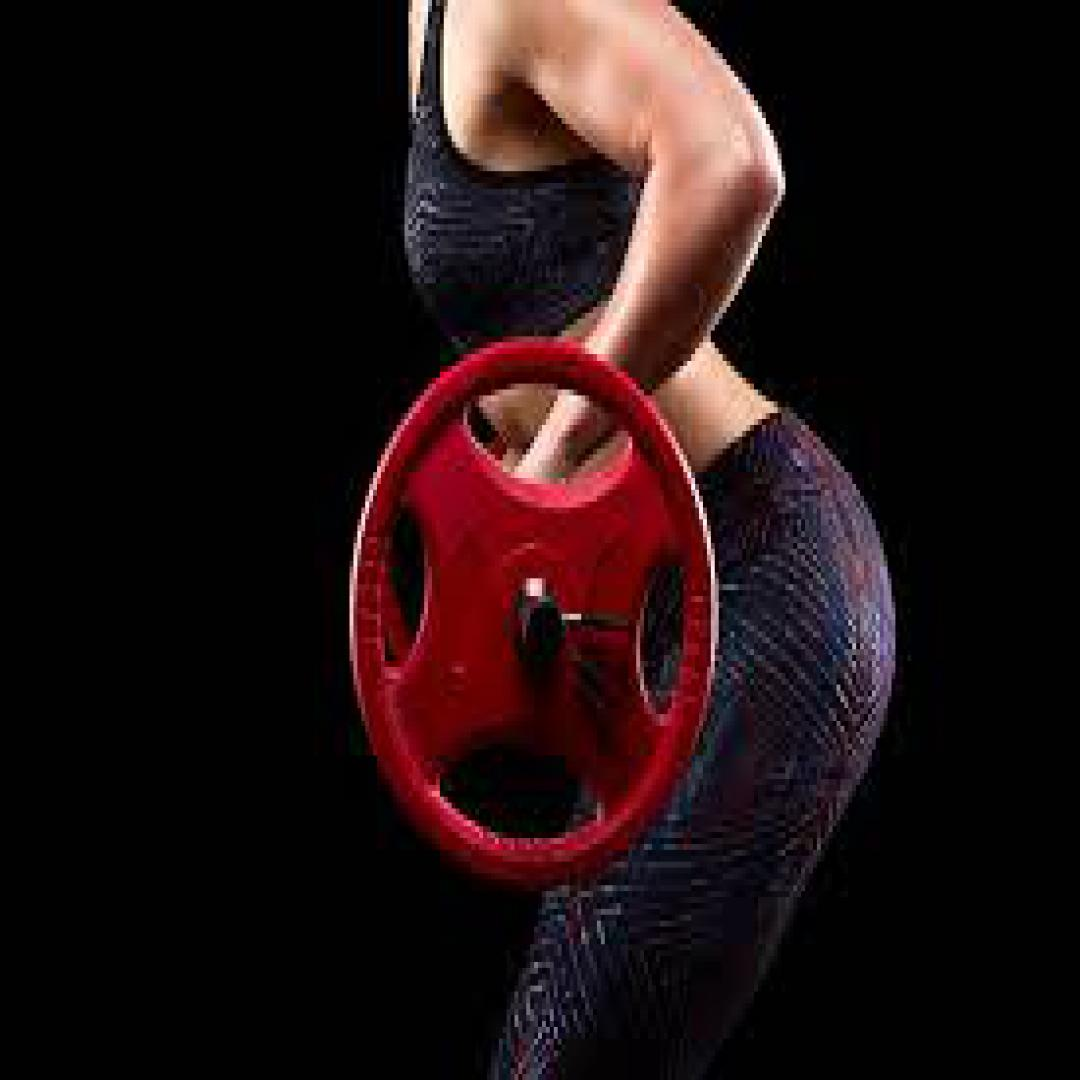Bar: (522, 597, 570, 668)
Barbell: (353, 337, 715, 886)
